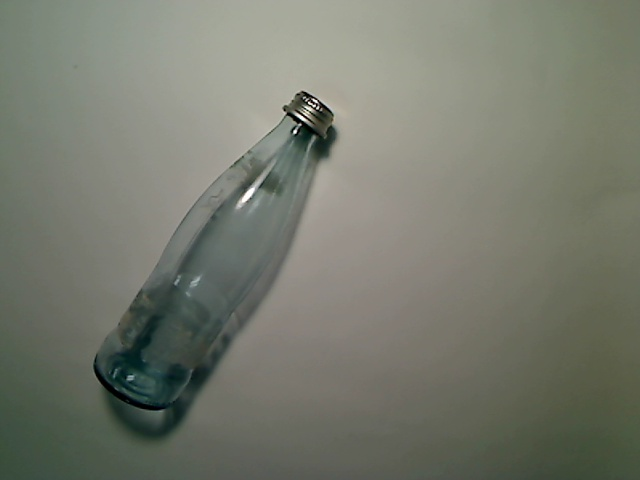bottle: (92, 90, 336, 411)
